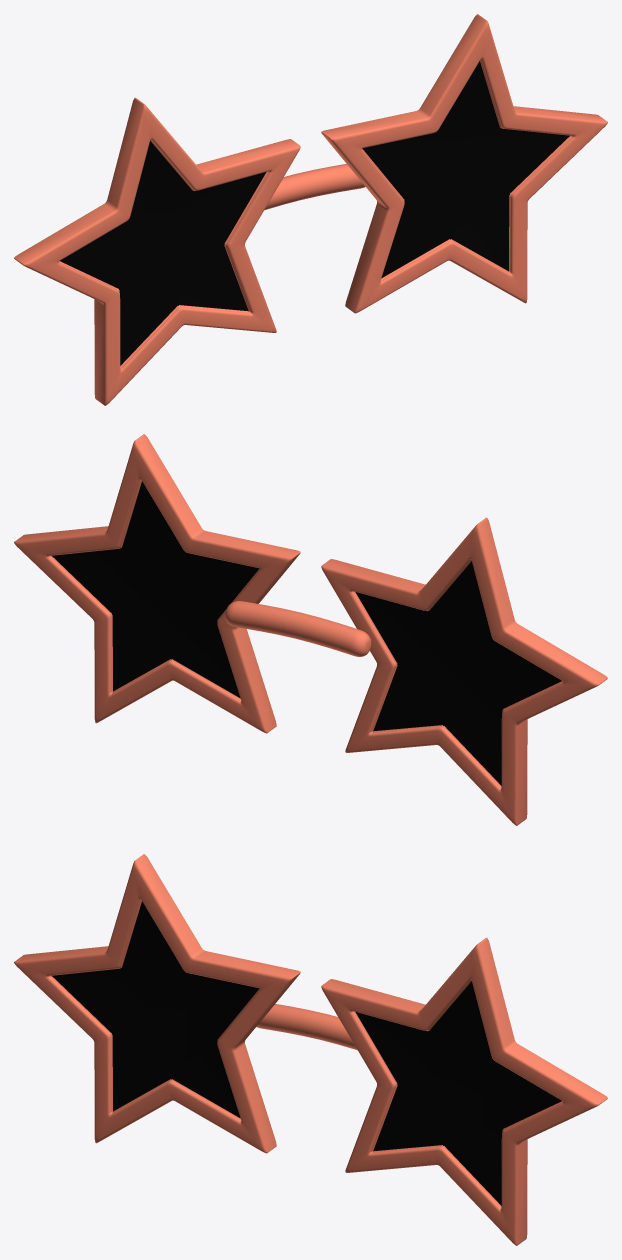
Rendered from starShades.fbx.
The picture shows the model from 3 angles, top to bottom: view 1: azimuth 30°, elevation 25°; view 2: azimuth 150°, elevation 25°; view 3: azimuth 330°, elevation 25°; orthographic projection.
Visible parts, largest first — view 1: _gltfNode_1, _gltfNode_4, _gltfNode_5, _gltfNode_2, _gltfNode_0; view 2: _gltfNode_1, _gltfNode_4, _gltfNode_5, _gltfNode_2, _gltfNode_0; view 3: _gltfNode_4, _gltfNode_1, _gltfNode_2, _gltfNode_5, _gltfNode_0.
Part boxes in pixels (left/top/right/bottom): _gltfNode_1: left=14, top=97, right=300, bottom=405; _gltfNode_4: left=321, top=14, right=607, bottom=313; _gltfNode_5: left=362, top=61, right=569, bottom=278; _gltfNode_2: left=60, top=141, right=266, bottom=365; _gltfNode_0: left=264, top=164, right=365, bottom=210; _gltfNode_1: left=321, top=517, right=607, bottom=825; _gltfNode_4: left=14, top=434, right=300, bottom=733; _gltfNode_5: left=52, top=481, right=259, bottom=698; _gltfNode_2: left=355, top=561, right=561, bottom=785; _gltfNode_0: left=225, top=601, right=371, bottom=656; _gltfNode_4: left=321, top=937, right=607, bottom=1245; _gltfNode_1: left=14, top=854, right=300, bottom=1153; _gltfNode_2: left=52, top=901, right=259, bottom=1118; _gltfNode_5: left=355, top=981, right=561, bottom=1205; _gltfNode_0: left=256, top=1004, right=357, bottom=1050.
Size of the model in its own units: 361 by 172 by 27.26.
